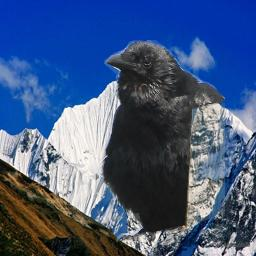Crow: (97, 39, 225, 242)
